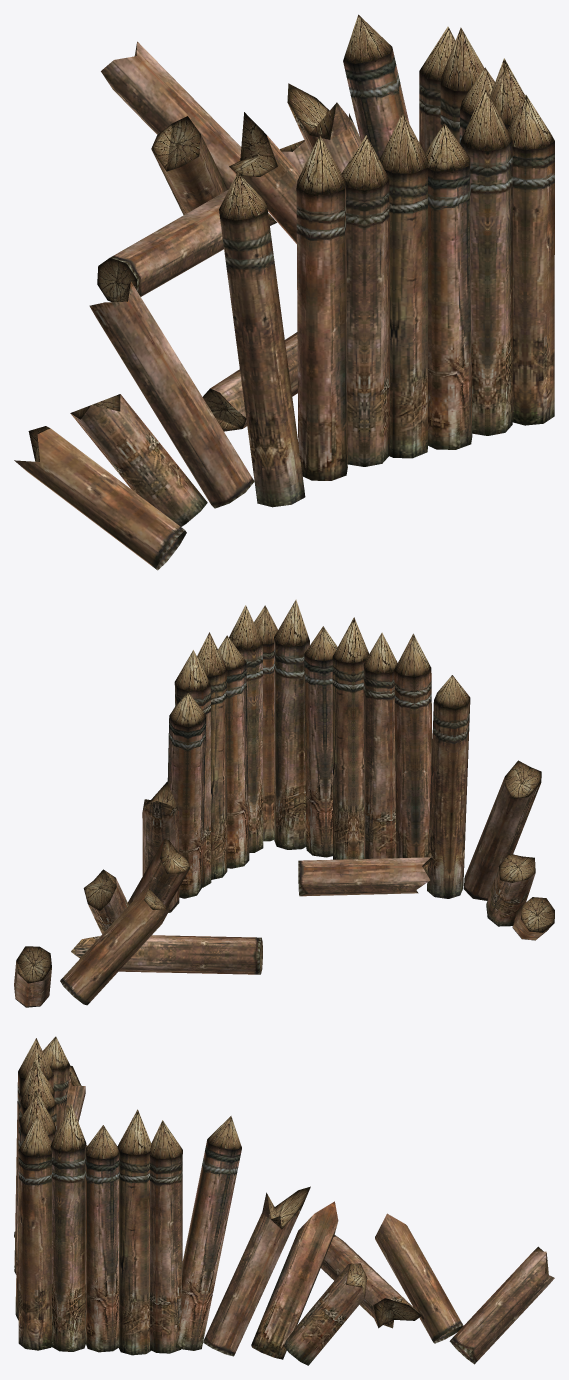
3 renders of one model, top to bottom at view 1: azimuth 30°, elevation 25°; view 2: azimuth 150°, elevation 25°; view 3: azimuth 270°, elevation 25°, orthographic. The views are drawn at different scales.
Parts seen in each view (by area): view 1: hr_rn11; view 2: hr_rn11; view 3: hr_rn11.
Boxes of the visible parts, box(x1,y1,x2,y2) form: hr_rn11: box(14, 14, 554, 570); hr_rn11: box(14, 599, 554, 1007); hr_rn11: box(14, 1036, 554, 1365).
Bounding box in the file's own units: 6.02 × 4.56 × 7.96.
2 materials, 2 textured.
